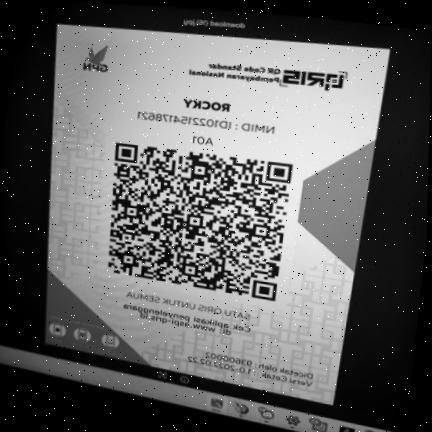Cara Pakai QRIS: (43, 310, 134, 362)
Cek Aplikasi Penyelenggara: (113, 301, 255, 344)
Dicetak Oleh: (201, 349, 317, 381)
Logo GPN: (75, 40, 115, 78)
Logo dan deskripsi QRIS: (180, 56, 358, 98)
Nama Merchant: (174, 94, 236, 117)
National Merchant ID: (133, 107, 280, 138)
QR Code: (104, 137, 302, 307)
Slogan: (119, 287, 255, 324)
Terminal ID: (186, 132, 220, 149)
Versi Cetak: (184, 355, 316, 389)
